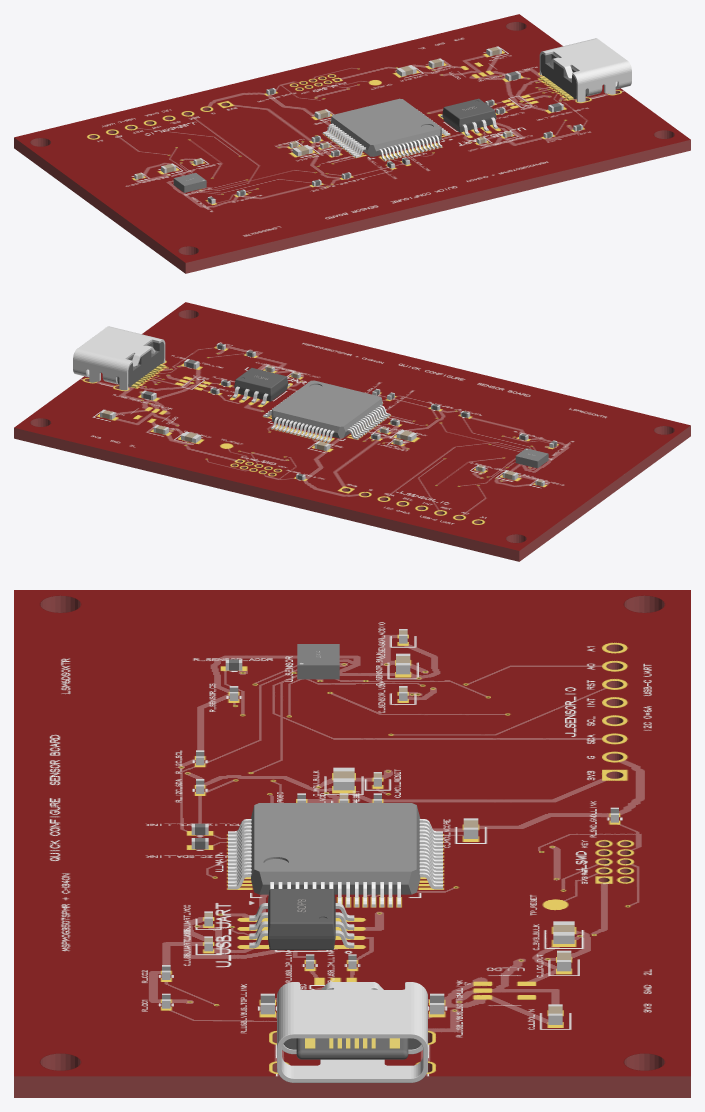
3 renders of one model, top to bottom at view 1: azimuth 30°, elevation 25°; view 2: azimuth 150°, elevation 25°; view 3: azimuth 270°, elevation 25°, orthographic. The views are drawn at different scales.
Parts seen in each view (by area): view 1: Box0, U_MAIN, J_USB, U_USB_UART, U_SENSOR; view 2: Box0, U_MAIN, J_USB, U_USB_UART, U_SENSOR; view 3: Box0, U_MAIN, J_USB, U_USB_UART, U_SENSOR.
Boxes of the visible parts, x1,y1,x2,y2 form: Box0: (14,14,690,273); U_MAIN: (322,98,450,161); J_USB: (539,38,631,102); U_USB_UART: (440,98,498,135); U_SENSOR: (173,173,206,192); Box0: (14,302,690,561); U_MAIN: (263,380,390,442); J_USB: (73,326,165,390); U_USB_UART: (232,368,290,404); U_SENSOR: (515,448,548,468); Box0: (14,590,690,1097); U_MAIN: (228,803,442,907); J_USB: (277,982,427,1082); U_USB_UART: (249,889,354,949); U_SENSOR: (297,644,339,679).
Size of the model in its own units: 69.04 by 4.65 by 40.
19 materials, 2 textured.
